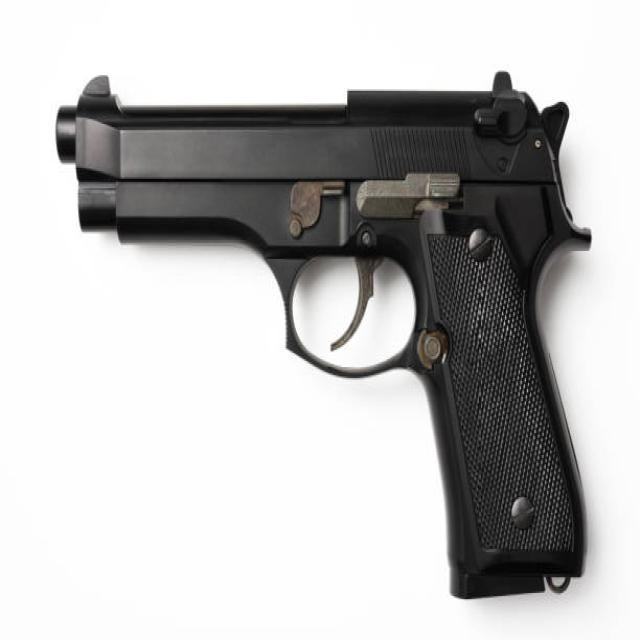pistol: (52, 57, 598, 616)
